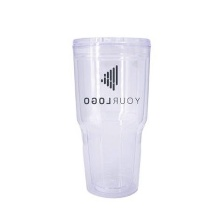glass: (71, 30, 157, 203)
